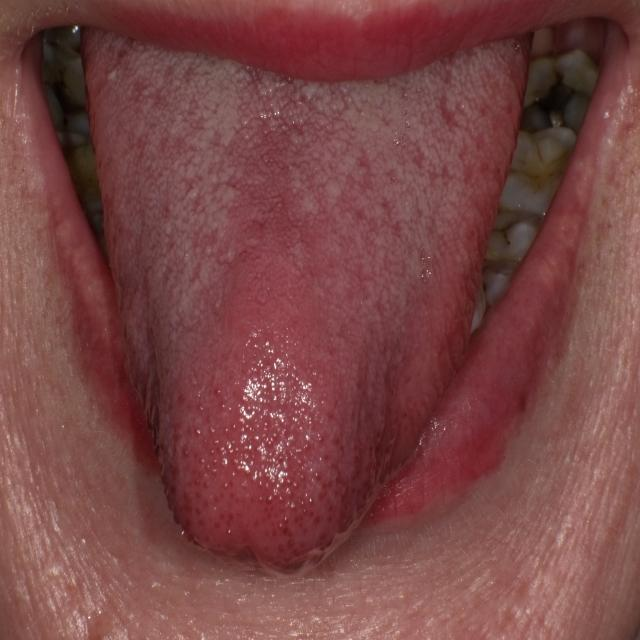baitaishe: (80, 28, 533, 575)
hongdianshe: (312, 470, 322, 482), (211, 386, 221, 396), (315, 434, 325, 444)
hongshe: (80, 28, 533, 575)
shoushe: (80, 28, 533, 575)
